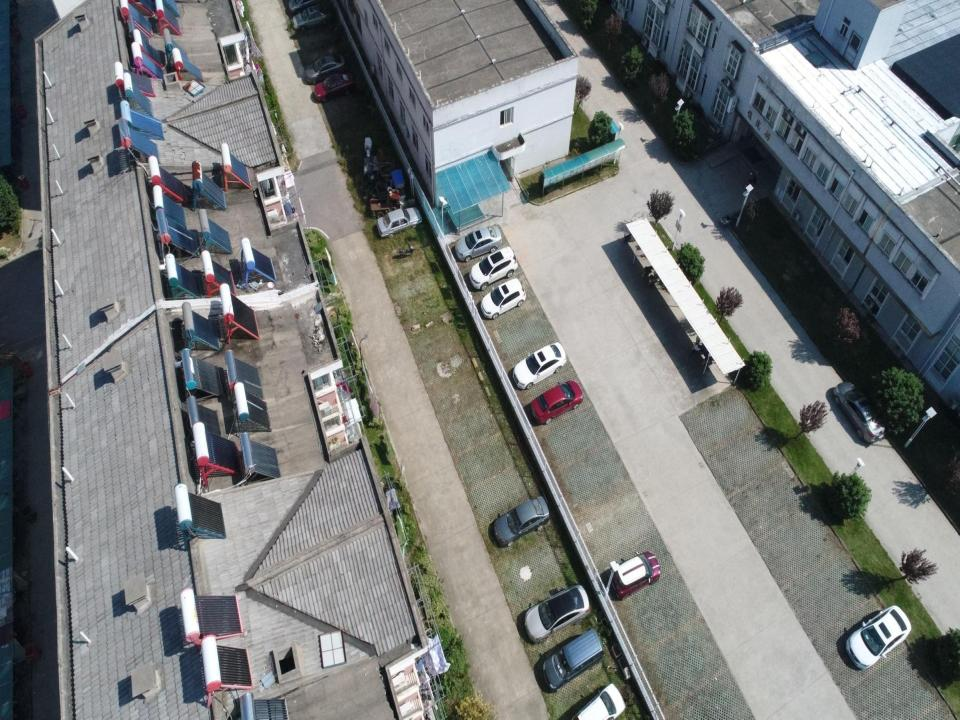car: (845, 603, 912, 671), (543, 628, 604, 691), (526, 584, 590, 644), (832, 380, 886, 444), (493, 495, 551, 547), (512, 342, 568, 390), (610, 552, 661, 598), (469, 246, 519, 290), (532, 381, 584, 423), (572, 683, 625, 719), (481, 279, 527, 319), (455, 225, 503, 261), (377, 206, 426, 236), (304, 56, 352, 81), (314, 77, 362, 99), (291, 8, 331, 28)
